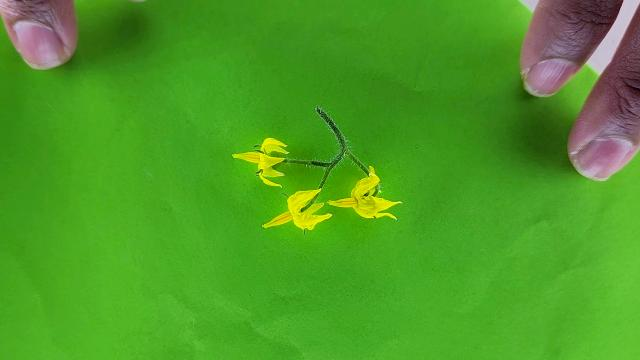Anthesis: (326, 166, 406, 220), (262, 186, 333, 233), (232, 137, 290, 188)
